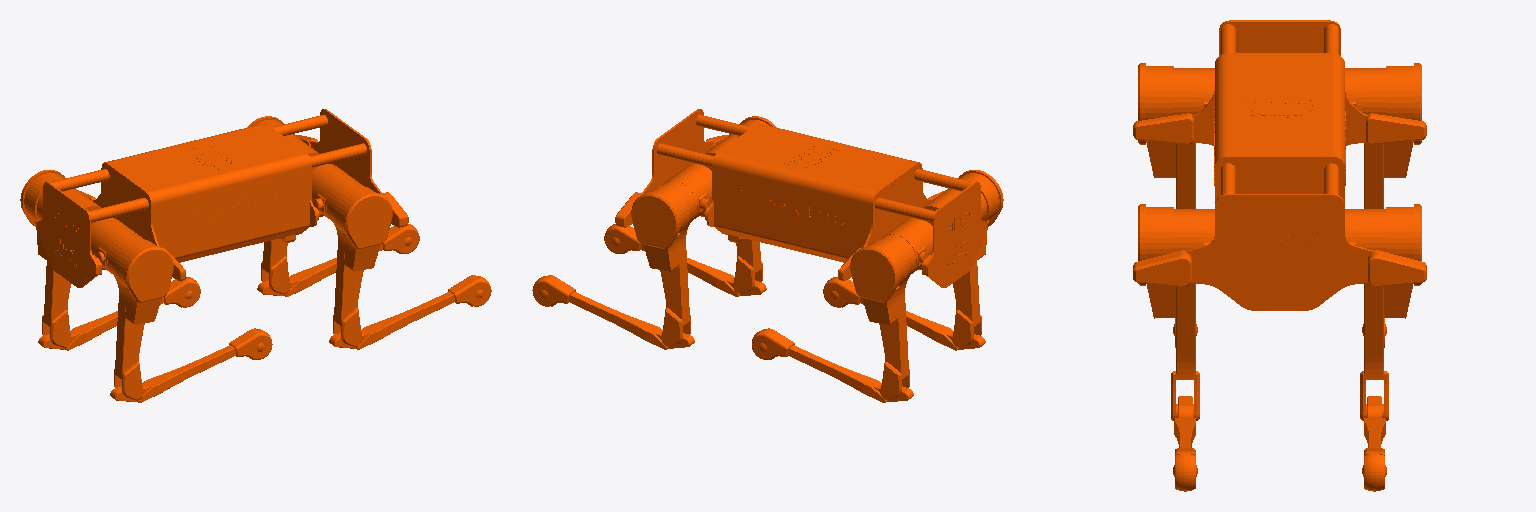
--- What the picture shows (computed from the rendered views, not written in the file) ---
3 views of the same robot in one strip: view 1: azimuth 30°, elevation 25°; view 2: azimuth 150°, elevation 25°; view 3: azimuth 270°, elevation 25° (orthographic).
Model laikago with 23 links and 22 joints (16 revolute, 6 fixed), rooted at base, posed all joints at 0 but 4 set to mid-range because 0 is outside their limits (FL_calf_joint = -1.69, FR_calf_joint = -1.69, RR_calf_joint = -1.69, RL_calf_joint = -1.69).
Visible links, largest first — view 1: trunk, FR_thigh, RR_thigh, RL_thigh, FR_calf, RR_calf, RL_calf, FL_calf, FL_thigh, RR_hip, FR_hip; view 2: trunk, FL_thigh, RL_thigh, RR_thigh, FL_calf, RL_calf, RR_calf, FR_calf, FR_thigh, RL_hip, FL_hip; view 3: trunk, FL_thigh, FR_thigh, RR_thigh, RL_thigh, FL_calf, FR_calf, RL_hip, RR_hip, FL_hip, FR_hip.
Link boxes in pixels (x1,y1,x2,y2): trunk: (37,109,408,287); FR_thigh: (327,181,392,346); RR_thigh: (108,234,173,400); RL_thigh: (20,170,77,347); FR_calf: (329,275,491,349); RR_calf: (110,328,272,402); RL_calf: (38,277,200,350); FL_calf: (257,224,419,296); FL_thigh: (247,116,295,293); RR_hip: (91,218,138,273); FR_hip: (312,164,358,218); trunk: (615,109,986,287); FL_thigh: (631,181,696,346); RL_thigh: (850,234,915,400); RR_thigh: (946,170,1003,347); FL_calf: (532,275,694,349); RL_calf: (752,328,913,402); RR_calf: (823,277,985,350); FR_calf: (604,224,766,296); FR_thigh: (728,116,776,293); RL_hip: (885,218,932,273); FL_hip: (665,164,711,218); trunk: (1133,20,1426,310); FL_thigh: (1360,204,1421,420); FR_thigh: (1138,204,1199,420); RR_thigh: (1138,63,1198,208); RL_thigh: (1361,63,1421,208); FL_calf: (1364,396,1385,491); FR_calf: (1174,396,1195,491); RL_hip: (1345,68,1360,110); RR_hip: (1199,68,1214,111); FL_hip: (1345,209,1360,246); FR_hip: (1199,209,1214,246).
Size in the robot's own frame: 0.7755 by 0.386 by 0.364 metres.
13 mesh visuals loaded from 5 distinct referenced files (5 binary STL).

robot.urdf — laikago:
<?xml version="1.0" ?>
<!-- =================================================================================== -->
<!-- |    This document was autogenerated by xacro from package://laikago/robot/robot.xacro | -->
<!-- |    EDITING THIS FILE BY HAND IS NOT RECOMMENDED                                 | -->
<!-- =================================================================================== -->
<robot name="laikago" xmlns:xacro="http://www.ros.org/wiki/xacro">
  <!-- ros_control plugin -->
  <gazebo>
    <plugin filename="libgazebo_ros_control.so" name="gazebo_ros_control">
      <robotNamespace>/laikago</robotNamespace>
      <robotSimType>gazebo_ros_control/DefaultRobotHWSim</robotSimType>
    </plugin>
  </gazebo>
  <!-- Show the trajectory of trunk center. -->
  <gazebo>
    <plugin filename="libLinkPlot3DPlugin.so" name="3dplot">
      <frequency>10</frequency>
      <plot>
        <link>base</link>
        <pose>0 0 0 0 0 0</pose>
        <material>Gazebo/Yellow</material>
      </plot>
    </plugin>
  </gazebo>
  <!-- Show the trajectory of foot. You can add another trajectory about another foot. -->
  <!-- <gazebo>
        <plugin name="3dplot" filename="libLinkPlot3DPlugin.so">
            <frequency>100</frequency>
            <plot>
                <link>FL_foot</link>
                <pose>0 0 0 0 0 0</pose>
                <material>Gazebo/Green</material>
            </plot>
        </plugin>
    </gazebo> -->
  <gazebo>
    <plugin filename="libgazebo_ros_force.so" name="gazebo_ros_force">
      <bodyName>trunk</bodyName>
      <topicName>/apply_force/trunk</topicName>
    </plugin>
  </gazebo>
  <gazebo reference="imu_link">
    <gravity>true</gravity>
    <sensor name="imu_sensor" type="imu">
      <always_on>true</always_on>
      <update_rate>1000</update_rate>
      <visualize>true</visualize>
      <topic>__default_topic__</topic>
      <plugin filename="libgazebo_ros_imu_sensor.so" name="imu_plugin">
        <topicName>trunk_imu</topicName>
        <bodyName>imu_link</bodyName>
        <updateRateHZ>1000.0</updateRateHZ>
        <gaussianNoise>0.0</gaussianNoise>
        <xyzOffset>0 0 0</xyzOffset>
        <rpyOffset>0 0 0</rpyOffset>
        <frameName>imu_link</frameName>
      </plugin>
      <pose>0 0 0 0 0 0</pose>
    </sensor>
  </gazebo>
  <gazebo reference="FL_foot">
    <sensor name="FL_foot_contact" type="contact">
      <update_rate>100</update_rate>
      <plugin filename="libLaikagoFootContactPlugin.so" name="footContactPlugin"/>
      <contact>
        <collision>FL_foot_collision_collision</collision>
      </contact>
    </sensor>
  </gazebo>
  <gazebo reference="FR_foot">
    <sensor name="FR_foot_contact" type="contact">
      <update_rate>100</update_rate>
      <plugin filename="libLaikagoFootContactPlugin.so" name="contactPlugin"/>
      <contact>
        <collision>FR_foot_collision_collision</collision>
      </contact>
    </sensor>
  </gazebo>
  <gazebo reference="RL_foot">
    <sensor name="RL_foot_contact" type="contact">
      <update_rate>100</update_rate>
      <plugin filename="libLaikagoFootContactPlugin.so" name="contactPlugin"/>
      <contact>
        <collision>RL_foot_collision_collision</collision>
      </contact>
    </sensor>
  </gazebo>
  <gazebo reference="RR_foot">
    <sensor name="RR_foot_contact" type="contact">
      <update_rate>100</update_rate>
      <plugin filename="libLaikagoFootContactPlugin.so" name="contactPlugin"/>
      <contact>
        <collision>RR_foot_collision_collision</collision>
      </contact>
    </sensor>
  </gazebo>
  <physics type="ode">
    <gravity xyz="0 0 -9.8"/>
    <ode>
      <solver dt="0.0001" iters="1000" sor="1.3" type="quick"/>
      <constraints cfm="0.0" contact_max_correcting_vel="10.0" contact_surface_layer="0.001" erp="0.1"/>
    </ode>
  </physics>
  <gazebo reference="base">
    <material>Gazebo/Green</material>
    <turnGravityOff>false</turnGravityOff>
  </gazebo>
  <gazebo reference="trunk">
    <mu1>0.2</mu1>
    <mu2>0.2</mu2>
    <kp value="1000000.0"/>
    <kd value="1.0"/>
  </gazebo>
  <gazebo reference="stick_link">
    <mu1>0.2</mu1>
    <mu2>0.2</mu2>
    <material>Gazebo/White</material>
  </gazebo>
  <gazebo reference="imu_link">
    <mu1>0.2</mu1>
    <mu2>0.2</mu2>
    <material>Gazebo/Red</material>
  </gazebo>
  <!-- FL leg -->
  <gazebo reference="FL_hip">
    <mu1>0.2</mu1>
    <mu2>0.2</mu2>
    <material>Gazebo/DarkGrey</material>
  </gazebo>
  <gazebo reference="FL_thigh">
    <mu1>0.2</mu1>
    <mu2>0.2</mu2>
    <material>Gazebo/DarkGrey</material>
    <kp value="1000000.0"/>
    <kd value="1.0"/>
  </gazebo>
  <gazebo reference="FL_calf">
    <mu1>0.2</mu1>
    <mu2>0.2</mu2>
    <self_collide>1</self_collide>
  </gazebo>
  <gazebo reference="FL_foot">
    <mu1>0.9</mu1>
    <mu2>0.9</mu2>
    <material>Gazebo/DarkGrey</material>
    <kp value="1000000.0"/>
    <kd value="1.0"/>
  </gazebo>
  <!-- FR leg -->
  <gazebo reference="FR_hip">
    <mu1>0.2</mu1>
    <mu2>0.2</mu2>
    <material>Gazebo/DarkGrey</material>
  </gazebo>
  <gazebo reference="FR_thigh">
    <mu1>0.2</mu1>
    <mu2>0.2</mu2>
    <material>Gazebo/DarkGrey</material>
    <kp value="1000000.0"/>
    <kd value="1.0"/>
  </gazebo>
  <gazebo reference="FR_calf">
    <mu1>0.2</mu1>
    <mu2>0.2</mu2>
    <self_collide>1</self_collide>
  </gazebo>
  <gazebo reference="FR_foot">
    <mu1>0.9</mu1>
    <mu2>0.9</mu2>
    <material>Gazebo/DarkGrey</material>
    <kp value="1000000.0"/>
    <kd value="1.0"/>
  </gazebo>
  <!-- RL leg -->
  <gazebo reference="RL_hip">
    <mu1>0.2</mu1>
    <mu2>0.2</mu2>
    <material>Gazebo/DarkGrey</material>
  </gazebo>
  <gazebo reference="RL_thigh">
    <mu1>0.2</mu1>
    <mu2>0.2</mu2>
    <material>Gazebo/DarkGrey</material>
    <kp value="1000000.0"/>
    <kd value="1.0"/>
  </gazebo>
  <gazebo reference="RL_calf">
    <mu1>0.2</mu1>
    <mu2>0.2</mu2>
    <self_collide>1</self_collide>
  </gazebo>
  <gazebo reference="RL_foot">
    <mu1>0.9</mu1>
    <mu2>0.9</mu2>
    <material>Gazebo/DarkGrey</material>
    <kp value="1000000.0"/>
    <kd value="1.0"/>
  </gazebo>
  <!-- RR leg -->
  <gazebo reference="RR_hip">
    <mu1>0.2</mu1>
    <mu2>0.2</mu2>
    <material>Gazebo/DarkGrey</material>
  </gazebo>
  <gazebo reference="RR_thigh">
    <mu1>0.2</mu1>
    <mu2>0.2</mu2>
    <material>Gazebo/DarkGrey</material>
    <kp value="1000000.0"/>
    <kd value="1.0"/>
  </gazebo>
  <gazebo reference="RR_calf">
    <mu1>0.2</mu1>
    <mu2>0.2</mu2>
    <self_collide>1</self_collide>
  </gazebo>
  <gazebo reference="RR_foot">
    <mu1>0.9</mu1>
    <mu2>0.9</mu2>
    <material>Gazebo/DarkGrey</material>
    <kp value="1000000.0"/>
    <kd value="1.0"/>
  </gazebo>
  <material name="black">
    <color rgba="0.0 0.0 0.0 1.0"/>
  </material>
  <material name="blue">
    <color rgba="0.0 0.0 0.8 1.0"/>
  </material>
  <material name="green">
    <color rgba="0.0 0.8 0.0 1.0"/>
  </material>
  <material name="grey">
    <color rgba="0.2 0.2 0.2 1.0"/>
  </material>
  <material name="silver">
    <color rgba="0.913725490196 0.913725490196 0.847058823529 1.0"/>
  </material>
  <material name="orange">
    <color rgba="1.0 0.423529411765 0.0392156862745 1.0"/>
  </material>
  <material name="brown">
    <color rgba="0.870588235294 0.811764705882 0.764705882353 1.0"/>
  </material>
  <material name="red">
    <color rgba="0.8 0.0 0.0 1.0"/>
  </material>
  <material name="white">
    <color rgba="1.0 1.0 1.0 1.0"/>
  </material>
  <!-- Base footpoint Link -->
  <link name="base">
    <visual>
      <origin rpy="0 0 0" xyz="0 0 0"/>
      <geometry>
        <box size="0.001 0.001 0.001"/>
      </geometry>
    </visual>
  </link>
  <joint name="floating_base" type="fixed">
    <origin rpy="0 0 0" xyz="0 0 0"/>
    <parent link="base"/>
    <child link="trunk"/>
  </joint>
  <!-- Base Link -->
  <link name="trunk">
    <visual>
      <origin rpy="0 0 0" xyz="0 0 0"/>
      <geometry>
          <mesh filename="package://laikago/meshes/trunk.stl" scale="1 1 1"/>
      </geometry>
      <material name="orange"/>
    </visual>
    <collision>
      <origin rpy="0 0 0" xyz="0 0 0.01675"/>
      <geometry>
        <box size="0.5616 0.172 0.1875"/>
      </geometry>
    </collision>
    <inertial>
      <origin rpy="0 0 0" xyz="0.002284 -4.1e-05 0.025165"/>
      <mass value="13.733"/>
      <inertia ixx="0.073348887" ixy="0.00030338" ixz="0.001918218" iyy="0.250684593" iyz="-7.5402e-05" izz="0.254469458"/>
    </inertial>
  </link>
  <joint name="imu_joint" type="fixed">
    <parent link="trunk"/>
    <child link="imu_link"/>
    <origin rpy="0 0 0" xyz="0 0 0"/>
  </joint>
  <link name="imu_link">
    <inertial>
      <mass value="0.001"/>
      <origin rpy="0 0 0" xyz="0 0 0"/>
      <inertia ixx="0.0001" ixy="0" ixz="0" iyy="0.000001" iyz="0" izz="0.0001"/>
    </inertial>
    <visual>
      <origin rpy="0 0 0" xyz="0 0 0"/>
      <geometry>
        <box size="0.001 0.001 0.001"/>
      </geometry>
      <material name="red"/>
    </visual>
    <collision>
      <origin rpy="0 0 0" xyz="0 0 0"/>
      <geometry>
        <box size=".001 .001 .001"/>
      </geometry>
    </collision>
  </link>
  <joint name="FL_hip_joint" type="revolute">
    <origin rpy="0 0 0" xyz="0.21935 0.0875 0"/>
    <parent link="trunk"/>
    <child link="FL_hip"/>
    <axis xyz="1 0 0"/>
    <dynamics damping="0" friction="0"/>
    <limit effort="20" lower="-0.872664625997" upper="1.0471975512" velocity="52.4"/>
  </joint>
  <link name="FL_hip">
    <visual>
      <origin rpy="0 0 0" xyz="0 0 0"/>
      <geometry>
          <mesh filename="package://laikago/meshes/hip_left_front.stl" scale="1 1 1"/>
      </geometry>
      <material name="orange"/>
    </visual>
    <collision>
      <origin rpy="1.57079632679 0 0" xyz="0 -0.021 0"/>
      <geometry>
        <cylinder length="0.08" radius="0.041"/>
      </geometry>
    </collision>
    <inertial>
      <origin rpy="0 0 0" xyz="-0.001568 -0.008134 0.000864"/>
      <mass value="1.096"/>
      <inertia ixx="0.000822113" ixy="-4.982e-06" ixz="-3.672e-05" iyy="0.000983196" iyz="2.811e-06" izz="0.000864753"/>
    </inertial>
  </link>
  <joint name="FL_hip_fixed" type="fixed">
    <origin rpy="0 0 0" xyz="0 0.059 0"/>
    <parent link="FL_hip"/>
    <child link="FL_thigh_shoulder"/>
  </joint>
  <!-- this link is only for collision -->
  <link name="FL_thigh_shoulder">
    <collision>
      <origin rpy="1.57079632679 0 0" xyz="0 0 0"/>
      <geometry>
        <cylinder length="0.08" radius="0.044"/>
      </geometry>
    </collision>
  </link>
  <joint name="FL_thigh_joint" type="revolute">
    <origin rpy="0 0 0" xyz="0 0.037 0"/>
    <parent link="FL_hip"/>
    <child link="FL_thigh"/>
    <axis xyz="0 1 0"/>
    <dynamics damping="0" friction="0"/>
    <limit effort="55" lower="-0.523598775598" upper="3.92699081699" velocity="28.6"/>
  </joint>
  <link name="FL_thigh">
    <visual>
      <origin rpy="0 0 0" xyz="0 0 0"/>
      <geometry>
          <mesh filename="package://laikago/meshes/thigh_left.stl" scale="1 1 1"/>
      </geometry>
      <material name="orange"/>
    </visual>
    <collision>
      <origin rpy="0 1.57079632679 0" xyz="0 0 -0.125"/>
      <geometry>
        <box size="0.25 0.034 0.043"/>
      </geometry>
    </collision>
    <inertial>
      <origin rpy="0 0 0" xyz="-0.000482 0.02001 -0.031996"/>
      <mass value="1.528"/>
      <inertia ixx="0.00991611" ixy="1.0388e-05" ixz="0.000250428" iyy="0.009280083" iyz="-8.511e-05" izz="0.00178256"/>
    </inertial>
  </link>
  <joint name="FL_calf_joint" type="revolute">
    <origin rpy="0 0 0" xyz="0 0 -0.25"/>
    <parent link="FL_thigh"/>
    <child link="FL_calf"/>
    <axis xyz="0 1 0"/>
    <dynamics damping="0" friction="0"/>
    <limit effort="55" lower="-2.77507351067" upper="-0.610865238198" velocity="28.6"/>
  </joint>
  <link name="FL_calf">
    <visual>
      <origin rpy="0 0 0" xyz="0 0 0"/>
      <geometry>
          <mesh filename="package://laikago/meshes/calf.stl" scale="1 1 1"/>
      </geometry>
      <material name="orange"/>
    </visual>
    <collision>
      <origin rpy="0 1.57079632679 0" xyz="0 0 -0.125"/>
      <geometry>
        <box size="0.25 0.016 0.016"/>
      </geometry>
    </collision>
    <inertial>
      <origin rpy="0 0 0" xyz="-0.002196 -0.000381 -0.12338"/>
      <mass value="0.241"/>
      <inertia ixx="0.006181961" ixy="2.37e-07" ixz="-2.985e-06" iyy="0.006196546" iyz="5.138e-06" izz="3.4774e-05"/>
    </inertial>
  </link>
  <joint name="FL_foot_fixed" type="revolute">
    <origin rpy="0 0 0" xyz="0 0 -0.25"/>
    <parent link="FL_calf"/>
    <child link="FL_foot"/>
    <axis xyz="0 0 1"/>
    <limit effort="100.0" lower="-0.001" upper="0.001" velocity="0.05"/>
  </joint>
  <link name="FL_foot">
    <visual>
      <origin rpy="0 0 0" xyz="0 0 0"/>
      <geometry>
        <sphere radius="0.0165"/>
      </geometry>
      <material name="orange"/>
    </visual>
    <collision name="FL_foot_collision">
      <origin rpy="0 0 0" xyz="0 0 0"/>
      <geometry>
        <sphere radius="0.0265"/>
      </geometry>
    </collision>
    <inertial>
      <mass value="0.06"/>
      <inertia ixx="1.6854e-05" ixy="0.0" ixz="0.0" iyy="1.6854e-05" iyz="0.0" izz="1.6854e-05"/>
    </inertial>
  </link>
  <transmission name="FL_hip_tran">
    <type>transmission_interface/SimpleTransmission</type>
    <joint name="FL_hip_joint">
      <hardwareInterface>hardware_interface/EffortJointInterface</hardwareInterface>
    </joint>
    <actuator name="FL_hip_motor">
      <hardwareInterface>hardware_interface/EffortJointInterface</hardwareInterface>
      <mechanicalReduction>1</mechanicalReduction>
    </actuator>
  </transmission>
  <transmission name="FL_thigh_tran">
    <type>transmission_interface/SimpleTransmission</type>
    <joint name="FL_thigh_joint">
      <hardwareInterface>hardware_interface/EffortJointInterface</hardwareInterface>
    </joint>
    <actuator name="FL_thigh_motor">
      <hardwareInterface>hardware_interface/EffortJointInterface</hardwareInterface>
      <mechanicalReduction>1</mechanicalReduction>
    </actuator>
  </transmission>
  <transmission name="FL_calf_tran">
    <type>transmission_interface/SimpleTransmission</type>
    <joint name="FL_calf_joint">
      <hardwareInterface>hardware_interface/EffortJointInterface</hardwareInterface>
    </joint>
    <actuator name="FL_calf_motor">
      <hardwareInterface>hardware_interface/EffortJointInterface</hardwareInterface>
      <mechanicalReduction>1</mechanicalReduction>
    </actuator>
  </transmission>
  <joint name="FR_hip_joint" type="revolute">
    <origin rpy="0 0 0" xyz="0.21935 -0.0875 0"/>
    <parent link="trunk"/>
    <child link="FR_hip"/>
    <axis xyz="1 0 0"/>
    <dynamics damping="0" friction="0"/>
    <limit effort="20" lower="-1.0471975512" upper="0.872664625997" velocity="52.4"/>
  </joint>
  <link name="FR_hip">
    <visual>
      <origin rpy="3.14159265359 0 0" xyz="0 0 0"/>
      <geometry>
          <mesh filename="package://laikago/meshes/hip_left_front.stl" scale="1 1 1"/>
      </geometry>
      <material name="orange"/>
    </visual>
    <collision>
      <origin rpy="1.57079632679 0 0" xyz="0 0.021 0"/>
      <geometry>
        <cylinder length="0.08" radius="0.041"/>
      </geometry>
    </collision>
    <inertial>
      <origin rpy="0 0 0" xyz="-0.001568 0.008134 0.000864"/>
      <mass value="1.096"/>
      <inertia ixx="0.000822113" ixy="4.982e-06" ixz="-3.672e-05" iyy="0.000983196" iyz="-2.811e-06" izz="0.000864753"/>
    </inertial>
  </link>
  <joint name="FR_hip_fixed" type="fixed">
    <origin rpy="0 0 0" xyz="0 -0.059 0"/>
    <parent link="FR_hip"/>
    <child link="FR_thigh_shoulder"/>
  </joint>
  <!-- this link is only for collision -->
  <link name="FR_thigh_shoulder">
    <collision>
      <origin rpy="1.57079632679 0 0" xyz="0 0 0"/>
      <geometry>
        <cylinder length="0.08" radius="0.044"/>
      </geometry>
    </collision>
  </link>
  <joint name="FR_thigh_joint" type="revolute">
    <origin rpy="0 0 0" xyz="0 -0.037 0"/>
    <parent link="FR_hip"/>
    <child link="FR_thigh"/>
    <axis xyz="0 1 0"/>
    <dynamics damping="0" friction="0"/>
    <limit effort="55" lower="-0.523598775598" upper="3.92699081699" velocity="28.6"/>
  </joint>
  <link name="FR_thigh">
    <visual>
      <origin rpy="0 0 0" xyz="0 0 0"/>
      <geometry>
          <mesh filename="package://laikago/meshes/thigh_right.stl" scale="1 1 1"/>
      </geometry>
      <material name="orange"/>
    </visual>
    <collision>
      <origin rpy="0 1.57079632679 0" xyz="0 0 -0.125"/>
      <geometry>
        <box size="0.25 0.034 0.043"/>
      </geometry>
    </collision>
    <inertial>
      <origin rpy="0 0 0" xyz="-0.000482 -0.02001 -0.031996"/>
      <mass value="1.528"/>
      <inertia ixx="0.00991611" ixy="-1.0388e-05" ixz="0.000250428" iyy="0.009280083" iyz="8.511e-05" izz="0.00178256"/>
    </inertial>
  </link>
  <joint name="FR_calf_joint" type="revolute">
    <origin rpy="0 0 0" xyz="0 0 -0.25"/>
    <parent link="FR_thigh"/>
    <child link="FR_calf"/>
    <axis xyz="0 1 0"/>
    <dynamics damping="0" friction="0"/>
    <limit effort="55" lower="-2.77507351067" upper="-0.610865238198" velocity="28.6"/>
  </joint>
  <link name="FR_calf">
    <visual>
      <origin rpy="0 0 0" xyz="0 0 0"/>
      <geometry>
          <mesh filename="package://laikago/meshes/calf.stl" scale="1 1 1"/>
      </geometry>
      <material name="orange"/>
    </visual>
    <collision>
      <origin rpy="0 1.57079632679 0" xyz="0 0 -0.125"/>
      <geometry>
        <box size="0.25 0.016 0.016"/>
      </geometry>
    </collision>
    <inertial>
      <origin rpy="0 0 0" xyz="-0.002196 -0.000381 -0.12338"/>
      <mass value="0.241"/>
      <inertia ixx="0.006181961" ixy="2.37e-07" ixz="-2.985e-06" iyy="0.006196546" iyz="5.138e-06" izz="3.4774e-05"/>
    </inertial>
  </link>
  <joint name="FR_foot_fixed" type="revolute">
    <origin rpy="0 0 0" xyz="0 0 -0.25"/>
    <parent link="FR_calf"/>
    <child link="FR_foot"/>
    <axis xyz="0 0 1"/>
    <limit effort="100.0" lower="-0.001" upper="0.001" velocity="0.05"/>
  </joint>
  <link name="FR_foot">
    <visual>
      <origin rpy="0 0 0" xyz="0 0 0"/>
      <geometry>
        <sphere radius="0.0165"/>
      </geometry>
      <material name="orange"/>
    </visual>
    <collision name="FR_foot_collision">
      <origin rpy="0 0 0" xyz="0 0 0"/>
      <geometry>
        <sphere radius="0.0265"/>
      </geometry>
    </collision>
    <inertial>
      <mass value="0.06"/>
      <inertia ixx="1.6854e-05" ixy="0.0" ixz="0.0" iyy="1.6854e-05" iyz="0.0" izz="1.6854e-05"/>
    </inertial>
  </link>
  <transmission name="FR_hip_tran">
    <type>transmission_interface/SimpleTransmission</type>
    <joint name="FR_hip_joint">
      <hardwareInterface>hardware_interface/EffortJointInterface</hardwareInterface>
    </joint>
    <actuator name="FR_hip_motor">
      <hardwareInterface>hardware_interface/EffortJointInterface</hardwareInterface>
      <mechanicalReduction>1</mechanicalReduction>
    </actuator>
  </transmission>
  <transmission name="FR_thigh_tran">
    <type>transmission_interface/SimpleTransmission</type>
    <joint name="FR_thigh_joint">
      <hardwareInterface>hardware_interface/EffortJointInterface</hardwareInterface>
    </joint>
    <actuator name="FR_thigh_motor">
      <hardwareInterface>hardware_interface/EffortJointInterface</hardwareInterface>
      <mechanicalReduction>1</mechanicalReduction>
    </actuator>
  </transmission>
  <transmission name="FR_calf_tran">
    <type>transmission_interface/SimpleTransmission</type>
    <joint name="FR_calf_joint">
      <hardwareInterface>hardware_interface/EffortJointInterface</hardwareInterface>
    </joint>
    <actuator name="FR_calf_motor">
      <hardwareInterface>hardware_interface/EffortJointInterface</hardwareInterface>
      <mechanicalReduction>1</mechanicalReduction>
    </actuator>
  </transmission>
  <joint name="RR_hip_joint" type="revolute">
    <origin rpy="0 0 0" xyz="-0.21935 -0.0875 0"/>
    <parent link="trunk"/>
    <child link="RR_hip"/>
    <axis xyz="1 0 0"/>
    <dynamics damping="0" friction="0"/>
    <limit effort="20" lower="-1.0471975512" upper="0.872664625997" velocity="52.4"/>
  </joint>
  <link name="RR_hip">
    <visual>
      <origin rpy="3.14159265359 3.14159265359 0" xyz="0 0 0"/>
      <geometry>
          <mesh filename="package://laikago/meshes/hip_left_front.stl" scale="1 1 1"/>
      </geometry>
      <material name="orange"/>
    </visual>
    <collision>
      <origin rpy="1.57079632679 0 0" xyz="0 0.021 0"/>
      <geometry>
        <cylinder length="0.08" radius="0.041"/>
      </geometry>
    </collision>
    <inertial>
      <origin rpy="0 0 0" xyz="0.001568 0.008134 0.000864"/>
      <mass value="1.096"/>
      <inertia ixx="0.000822113" ixy="-4.982e-06" ixz="3.672e-05" iyy="0.000983196" iyz="-2.811e-06" izz="0.000864753"/>
    </inertial>
  </link>
  <joint name="RR_hip_fixed" type="fixed">
    <origin rpy="0 0 0" xyz="0 -0.059 0"/>
    <parent link="RR_hip"/>
    <child link="RR_thigh_shoulder"/>
  </joint>
  <!-- this link is only for collision -->
  <link name="RR_thigh_shoulder">
    <collision>
      <origin rpy="1.57079632679 0 0" xyz="0 0 0"/>
      <geometry>
        <cylinder length="0.08" radius="0.044"/>
      </geometry>
    </collision>
  </link>
  <joint name="RR_thigh_joint" type="revolute">
    <origin rpy="0 0 0" xyz="0 -0.037 0"/>
    <parent link="RR_hip"/>
    <child link="RR_thigh"/>
    <axis xyz="0 1 0"/>
    <dynamics damping="0" friction="0"/>
    <limit effort="55" lower="-0.523598775598" upper="3.92699081699" velocity="28.6"/>
  </joint>
  <link name="RR_thigh">
    <visual>
      <origin rpy="0 0 0" xyz="0 0 0"/>
      <geometry>
          <mesh filename="package://laikago/meshes/thigh_right.stl" scale="1 1 1"/>
      </geometry>
      <material name="orange"/>
    </visual>
    <collision>
      <origin rpy="0 1.57079632679 0" xyz="0 0 -0.125"/>
      <geometry>
        <box size="0.25 0.034 0.043"/>
      </geometry>
    </collision>
    <inertial>
      <origin rpy="0 0 0" xyz="-0.000482 -0.02001 -0.031996"/>
      <mass value="1.528"/>
      <inertia ixx="0.00991611" ixy="-1.0388e-05" ixz="0.000250428" iyy="0.009280083" iyz="8.511e-05" izz="0.00178256"/>
    </inertial>
  </link>
  <joint name="RR_calf_joint" type="revolute">
    <origin rpy="0 0 0" xyz="0 0 -0.25"/>
    <parent link="RR_thigh"/>
    <child link="RR_calf"/>
    <axis xyz="0 1 0"/>
    <dynamics damping="0" friction="0"/>
    <limit effort="55" lower="-2.77507351067" upper="-0.610865238198" velocity="28.6"/>
  </joint>
  <link name="RR_calf">
    <visual>
      <origin rpy="0 0 0" xyz="0 0 0"/>
      <geometry>
          <mesh filename="package://laikago/meshes/calf.stl" scale="1 1 1"/>
      </geometry>
      <material name="orange"/>
    </visual>
    <collision>
      <origin rpy="0 1.57079632679 0" xyz="0 0 -0.125"/>
      <geometry>
        <box size="0.25 0.016 0.016"/>
      </geometry>
    </collision>
    <inertial>
      <origin rpy="0 0 0" xyz="-0.002196 -0.000381 -0.12338"/>
      <mass value="0.241"/>
      <inertia ixx="0.006181961" ixy="2.37e-07" ixz="-2.985e-06" iyy="0.006196546" iyz="5.138e-06" izz="3.4774e-05"/>
    </inertial>
  </link>
  <joint name="RR_foot_fixed" type="revolute">
    <origin rpy="0 0 0" xyz="0 0 -0.25"/>
    <parent link="RR_calf"/>
    <child link="RR_foot"/>
    <axis xyz="0 0 1"/>
    <limit effort="100.0" lower="-0.001" upper="0.001" velocity="0.05"/>
  </joint>
  <link name="RR_foot">
    <visual>
      <origin rpy="0 0 0" xyz="0 0 0"/>
      <geometry>
        <sphere radius="0.0165"/>
      </geometry>
      <material name="orange"/>
    </visual>
    <collision name="RR_foot_collision">
      <origin rpy="0 0 0" xyz="0 0 0"/>
      <geometry>
        <sphere radius="0.0265"/>
      </geometry>
    </collision>
    <inertial>
      <mass value="0.06"/>
      <inertia ixx="1.6854e-05" ixy="0.0" ixz="0.0" iyy="1.6854e-05" iyz="0.0" izz="1.6854e-05"/>
    </inertial>
  </link>
  <transmission name="RR_hip_tran">
    <type>transmission_interface/SimpleTransmission</type>
    <joint name="RR_hip_joint">
      <hardwareInterface>hardware_interface/EffortJointInterface</hardwareInterface>
    </joint>
    <actuator name="RR_hip_motor">
      <hardwareInterface>hardware_interface/EffortJointInterface</hardwareInterface>
      <mechanicalReduction>1</mechanicalReduction>
    </actuator>
  </transmission>
  <transmission name="RR_thigh_tran">
    <type>transmission_interface/SimpleTransmission</type>
    <joint name="RR_thigh_joint">
      <hardwareInterface>hardware_interface/EffortJointInterface</hardwareInterface>
    </joint>
    <actuator name="RR_thigh_motor">
      <hardwareInterface>hardware_interface/EffortJointInterface</hardwareInterface>
      <mechanicalReduction>1</mechanicalReduction>
    </actuator>
  </transmission>
  <transmission name="RR_calf_tran">
    <type>transmission_interface/SimpleTransmission</type>
    <joint name="RR_calf_joint">
      <hardwareInterface>hardware_interface/EffortJointInterface</hardwareInterface>
    </joint>
    <actuator name="RR_calf_motor">
      <hardwareInterface>hardware_interface/EffortJointInterface</hardwareInterface>
      <mechanicalReduction>1</mechanicalReduction>
    </actuator>
  </transmission>
  <joint name="RL_hip_joint" type="revolute">
    <origin rpy="0 0 0" xyz="-0.21935 0.0875 0"/>
    <parent link="trunk"/>
    <child link="RL_hip"/>
    <axis xyz="1 0 0"/>
    <dynamics damping="0" friction="0"/>
    <limit effort="20" lower="-0.872664625997" upper="1.0471975512" velocity="52.4"/>
  </joint>
  <link name="RL_hip">
    <visual>
      <origin rpy="0 3.14159265359 0" xyz="0 0 0"/>
      <geometry>
          <mesh filename="package://laikago/meshes/hip_left_front.stl" scale="1 1 1"/>
      </geometry>
      <material name="orange"/>
    </visual>
    <collision>
      <origin rpy="1.57079632679 0 0" xyz="0 -0.021 0"/>
      <geometry>
        <cylinder length="0.08" radius="0.041"/>
      </geometry>
    </collision>
    <inertial>
      <origin rpy="0 0 0" xyz="0.001568 -0.008134 0.000864"/>
      <mass value="1.096"/>
      <inertia ixx="0.000822113" ixy="4.982e-06" ixz="3.672e-05" iyy="0.000983196" iyz="2.811e-06" izz="0.000864753"/>
    </inertial>
  </link>
  <joint name="RL_hip_fixed" type="fixed">
    <origin rpy="0 0 0" xyz="0 0.059 0"/>
    <parent link="RL_hip"/>
    <child link="RL_thigh_shoulder"/>
  </joint>
  <!-- this link is only for collision -->
  <link name="RL_thigh_shoulder">
    <collision>
      <origin rpy="1.57079632679 0 0" xyz="0 0 0"/>
      <geometry>
        <cylinder length="0.08" radius="0.044"/>
      </geometry>
    </collision>
  </link>
  <joint name="RL_thigh_joint" type="revolute">
    <origin rpy="0 0 0" xyz="0 0.037 0"/>
    <parent link="RL_hip"/>
    <child link="RL_thigh"/>
    <axis xyz="0 1 0"/>
    <dynamics damping="0" friction="0"/>
    <limit effort="55" lower="-0.523598775598" upper="3.92699081699" velocity="28.6"/>
  </joint>
  <link name="RL_thigh">
    <visual>
      <origin rpy="0 0 0" xyz="0 0 0"/>
      <geometry>
          <mesh filename="package://laikago/meshes/thigh_left.stl" scale="1 1 1"/>
      </geometry>
      <material name="orange"/>
    </visual>
    <collision>
      <origin rpy="0 1.57079632679 0" xyz="0 0 -0.125"/>
      <geometry>
        <box size="0.25 0.034 0.043"/>
      </geometry>
    </collision>
    <inertial>
      <origin rpy="0 0 0" xyz="-0.000482 0.02001 -0.031996"/>
      <mass value="1.528"/>
      <inertia ixx="0.00991611" ixy="1.0388e-05" ixz="0.000250428" iyy="0.009280083" iyz="-8.511e-05" izz="0.00178256"/>
    </inertial>
  </link>
  <joint name="RL_calf_joint" type="revolute">
    <origin rpy="0 0 0" xyz="0 0 -0.25"/>
    <parent link="RL_thigh"/>
    <child link="RL_calf"/>
    <axis xyz="0 1 0"/>
    <dynamics damping="0" friction="0"/>
    <limit effort="55" lower="-2.77507351067" upper="-0.610865238198" velocity="28.6"/>
  </joint>
  <link name="RL_calf">
    <visual>
      <origin rpy="0 0 0" xyz="0 0 0"/>
      <geometry>
          <mesh filename="package://laikago/meshes/calf.stl" scale="1 1 1"/>
      </geometry>
      <material name="orange"/>
    </visual>
    <collision>
      <origin rpy="0 1.57079632679 0" xyz="0 0 -0.125"/>
      <geometry>
        <box size="0.25 0.016 0.016"/>
      </geometry>
    </collision>
    <inertial>
      <origin rpy="0 0 0" xyz="-0.002196 -0.000381 -0.12338"/>
      <mass value="0.241"/>
      <inertia ixx="0.006181961" ixy="2.37e-07" ixz="-2.985e-06" iyy="0.006196546" iyz="5.138e-06" izz="3.4774e-05"/>
    </inertial>
  </link>
  <joint name="RL_foot_fixed" type="revolute">
    <origin rpy="0 0 0" xyz="0 0 -0.25"/>
    <parent link="RL_calf"/>
    <child link="RL_foot"/>
    <axis xyz="0 0 1"/>
    <limit effort="100.0" lower="-0.001" upper="0.001" velocity="0.05"/>
  </joint>
  <link name="RL_foot">
    <visual>
      <origin rpy="0 0 0" xyz="0 0 0"/>
      <geometry>
        <sphere radius="0.0165"/>
      </geometry>
      <material name="orange"/>
    </visual>
    <collision name="RL_foot_collision">
      <origin rpy="0 0 0" xyz="0 0 0"/>
      <geometry>
        <sphere radius="0.0265"/>
      </geometry>
    </collision>
    <inertial>
      <mass value="0.06"/>
      <inertia ixx="1.6854e-05" ixy="0.0" ixz="0.0" iyy="1.6854e-05" iyz="0.0" izz="1.6854e-05"/>
    </inertial>
  </link>
  <transmission name="RL_hip_tran">
    <type>transmission_interface/SimpleTransmission</type>
    <joint name="RL_hip_joint">
      <hardwareInterface>hardware_interface/EffortJointInterface</hardwareInterface>
    </joint>
    <actuator name="RL_hip_motor">
      <hardwareInterface>hardware_interface/EffortJointInterface</hardwareInterface>
      <mechanicalReduction>1</mechanicalReduction>
    </actuator>
  </transmission>
  <transmission name="RL_thigh_tran">
    <type>transmission_interface/SimpleTransmission</type>
    <joint name="RL_thigh_joint">
      <hardwareInterface>hardware_interface/EffortJointInterface</hardwareInterface>
    </joint>
    <actuator name="RL_thigh_motor">
      <hardwareInterface>hardware_interface/EffortJointInterface</hardwareInterface>
      <mechanicalReduction>1</mechanicalReduction>
    </actuator>
  </transmission>
  <transmission name="RL_calf_tran">
    <type>transmission_interface/SimpleTransmission</type>
    <joint name="RL_calf_joint">
      <hardwareInterface>hardware_interface/EffortJointInterface</hardwareInterface>
    </joint>
    <actuator name="RL_calf_motor">
      <hardwareInterface>hardware_interface/EffortJointInterface</hardwareInterface>
      <mechanicalReduction>1</mechanicalReduction>
    </actuator>
  </transmission>
</robot>
